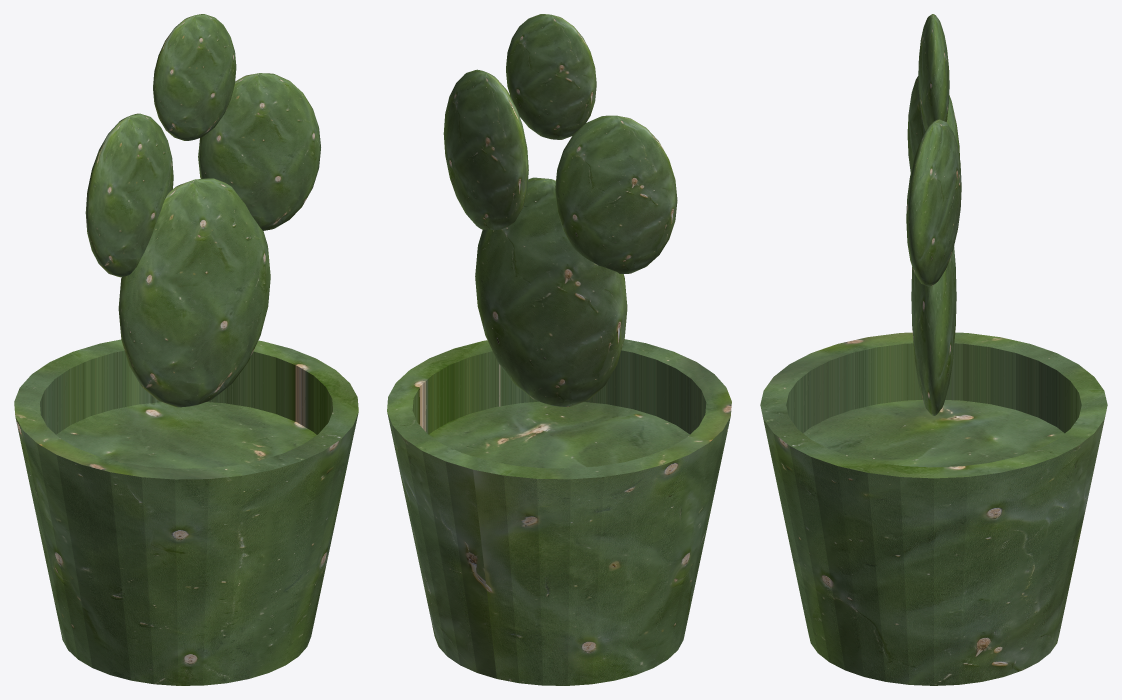
File: Nopal.obj
3 views of the same model, side by side, from view 1: azimuth 30°, elevation 25°; view 2: azimuth 150°, elevation 25°; view 3: azimuth 270°, elevation 25° (orthographic).
Visible parts, largest first — view 1: Cylinder, Nopal, Penca4, Penca1, Penca3; view 2: Cylinder, Nopal, Penca1, Penca4, Penca3; view 3: Cylinder, Penca4, Nopal, Penca3, Penca1.
Boxes of the visible parts, x1,y1,x2,y2 form: Cylinder: [14, 339, 358, 685]; Nopal: [118, 178, 270, 407]; Penca4: [198, 73, 320, 230]; Penca1: [85, 113, 173, 277]; Penca3: [153, 14, 236, 140]; Cylinder: [387, 339, 731, 685]; Nopal: [475, 177, 627, 407]; Penca1: [555, 115, 677, 273]; Penca4: [443, 69, 528, 230]; Penca3: [506, 14, 596, 139]; Cylinder: [760, 332, 1107, 685]; Penca4: [906, 119, 961, 286]; Nopal: [911, 246, 956, 415]; Penca3: [918, 14, 949, 130]; Penca1: [907, 76, 959, 172].
Size of the model in its own units: 2.76 by 5.44 by 2.76.
